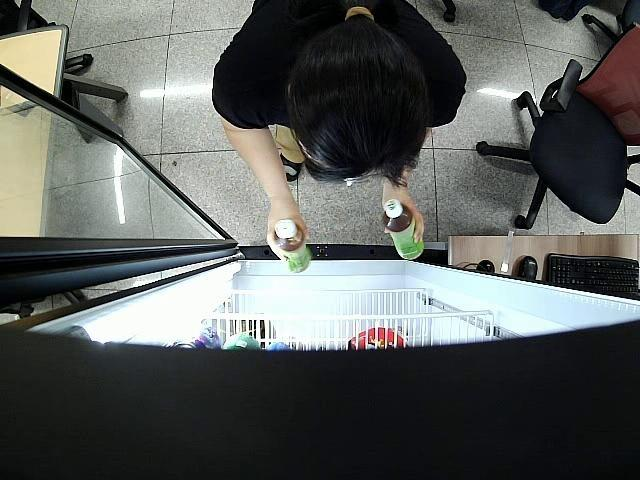19_17cha: (382, 202, 426, 264), (274, 215, 313, 274)
